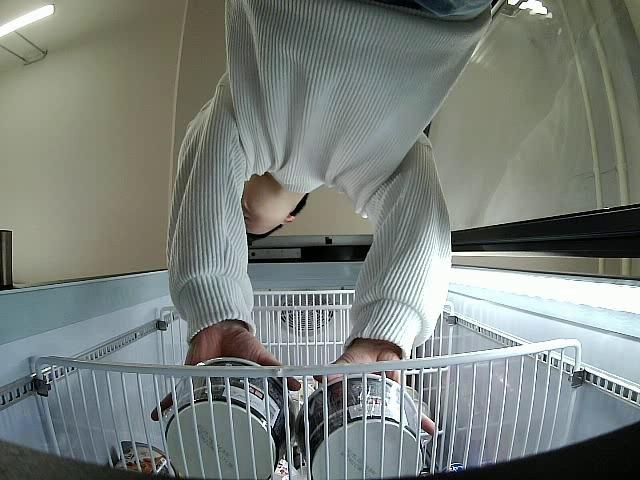07_buldak_L: (164, 359, 295, 480), (292, 374, 425, 480)
